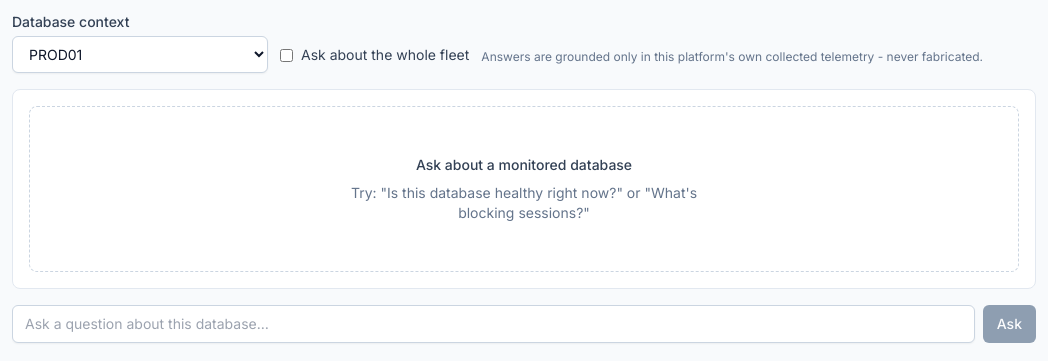
Test case: AiCopilotPage › sends fleet_scope and drops the selected database when the fleet toggle is on
Check: the dropdown labelled "Database context" shows "PROD01", box [12,36,268,73]
Click the checkbox labelled "Ask about the whole fleet" at (286, 55), box [280,48,293,62]
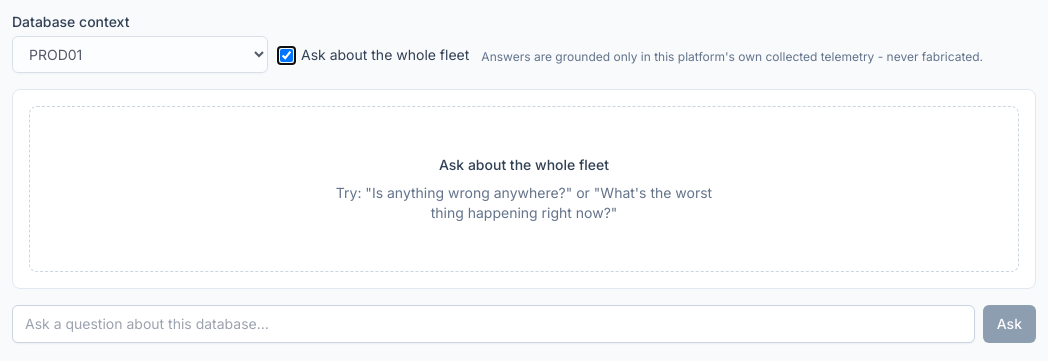
Check: the dropdown labelled "Database context" is disabled, box [12,36,268,73]
Check: the text "Is anything wrong anywhere" is shown, box [336,184,712,221]
Type "Is anything wrong anywhere?" into the field with placeholder "Ask a question about this database…" at (493, 324), box [12,305,975,343]
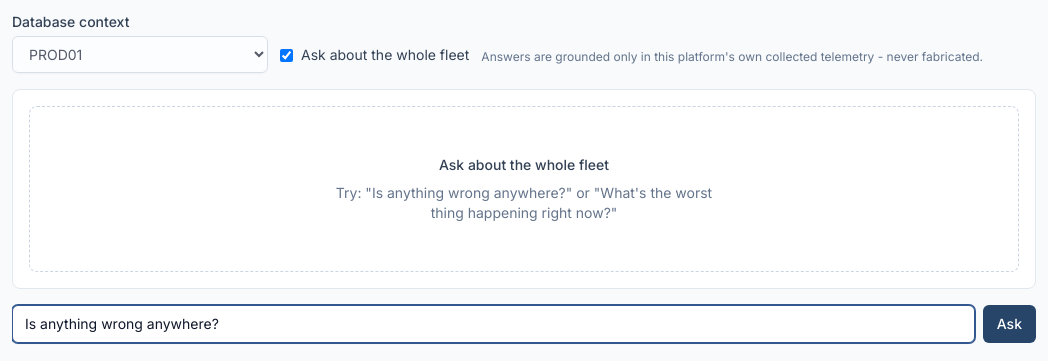
Click the button "Ask" at (1009, 324), box [983,305,1036,343]
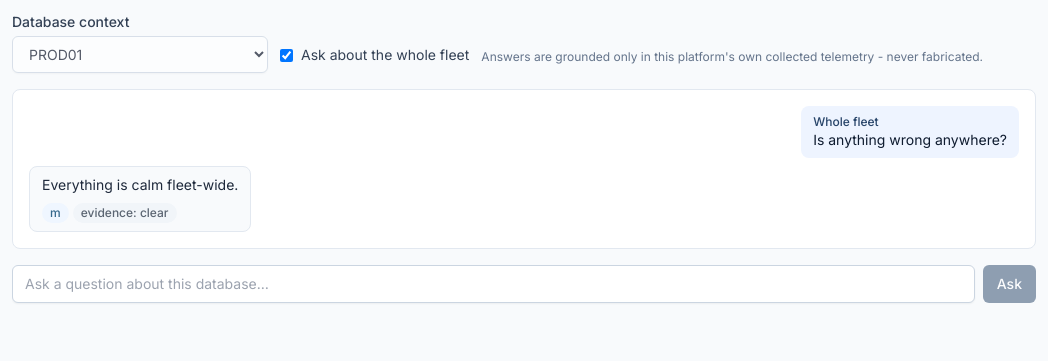
Check: the text "Everything is calm fleet-wide." is shown, box [42,175,238,195]
